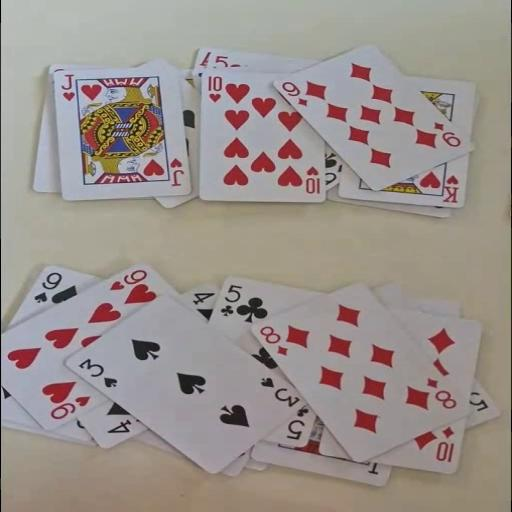10: (434, 424, 456, 463), (304, 164, 320, 195)
3: (256, 374, 302, 408), (75, 356, 119, 389)
5: (218, 282, 244, 316)
8: (424, 376, 459, 410), (256, 324, 290, 357)
9: (47, 394, 92, 420), (31, 270, 63, 304), (106, 267, 149, 291), (430, 119, 463, 148), (278, 79, 310, 107)
J: (167, 156, 185, 187), (58, 74, 76, 102)
K: (440, 172, 461, 204)
